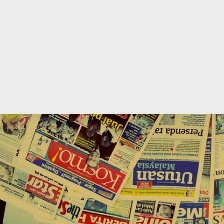news_paper: (16, 111, 167, 209), (112, 112, 212, 205), (0, 113, 67, 222), (171, 113, 223, 223), (49, 185, 140, 223), (129, 197, 181, 224)
